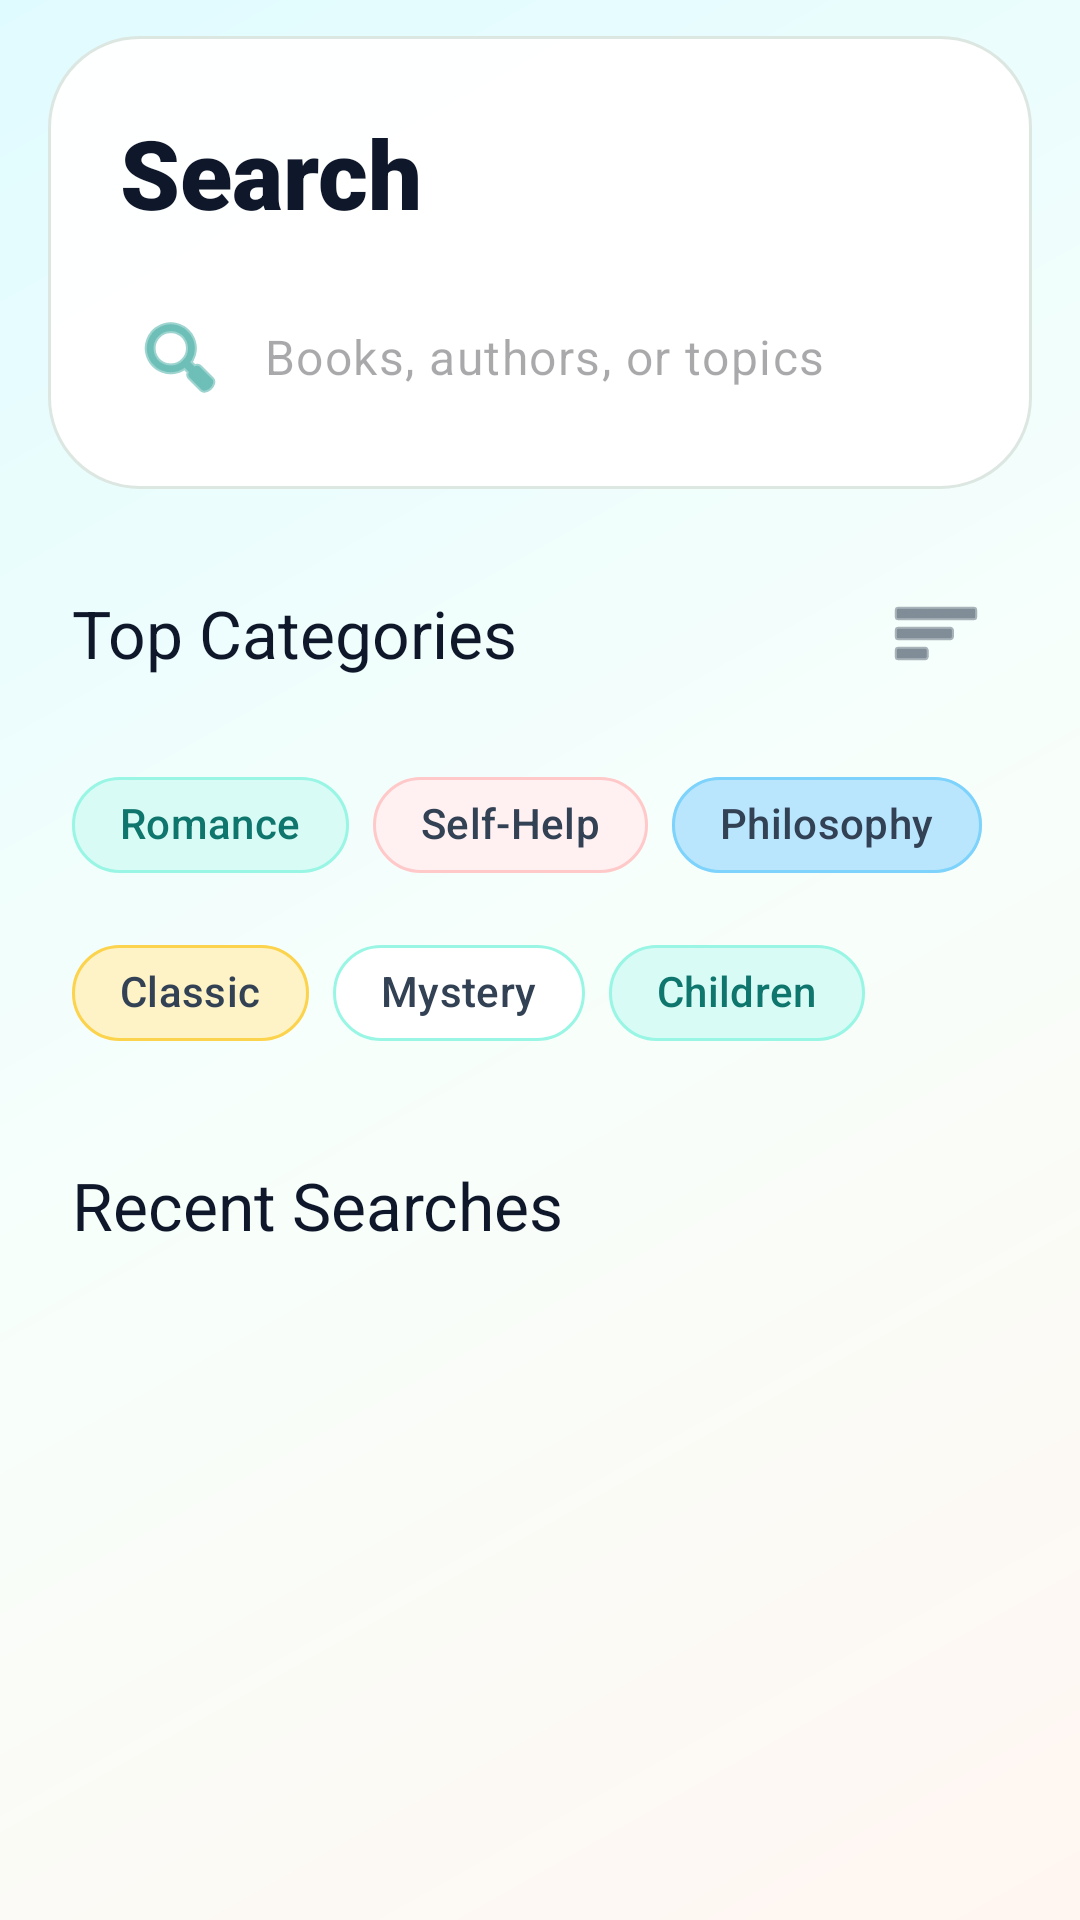

Point at icon controls on the screen. Image size 1080×1920, points as point (x, y).
sort by size: point (936, 633)
